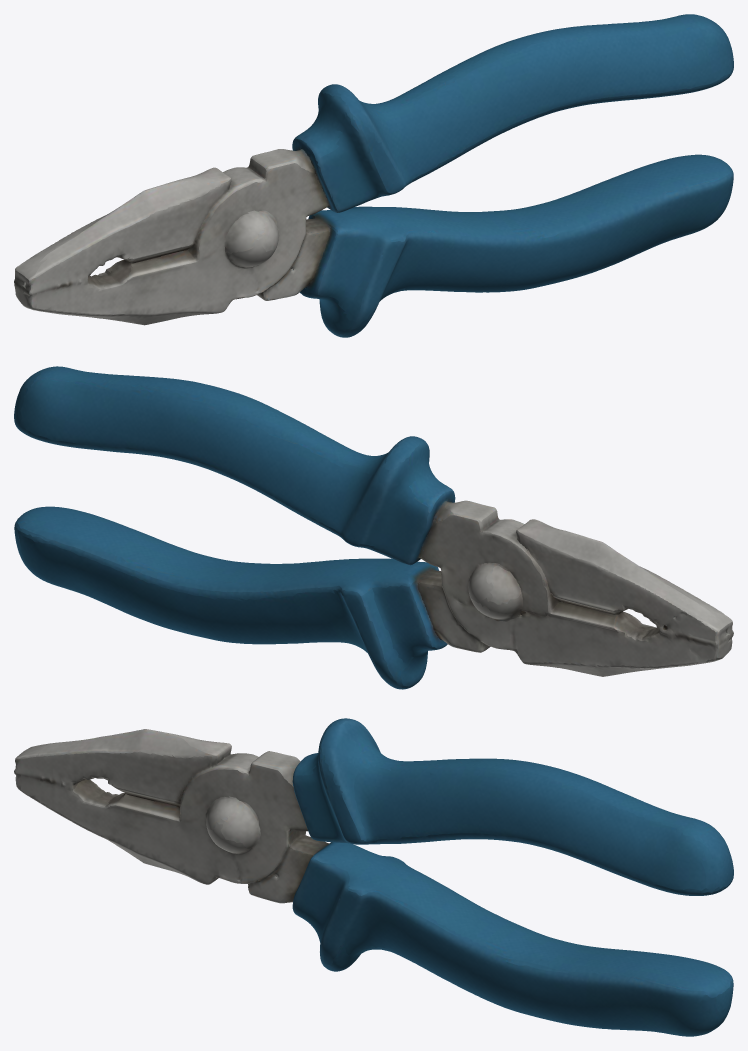
Rendered from parts.glb.
3 views of the same model, one above another, from view 1: azimuth 30°, elevation 25°; view 2: azimuth 150°, elevation 25°; view 3: azimuth 330°, elevation 25° (orthographic).
Bounding box in the file's own units: 0.16 × 0.0539 × 0.0175.
Materials: 3 (3 with a texture image).
